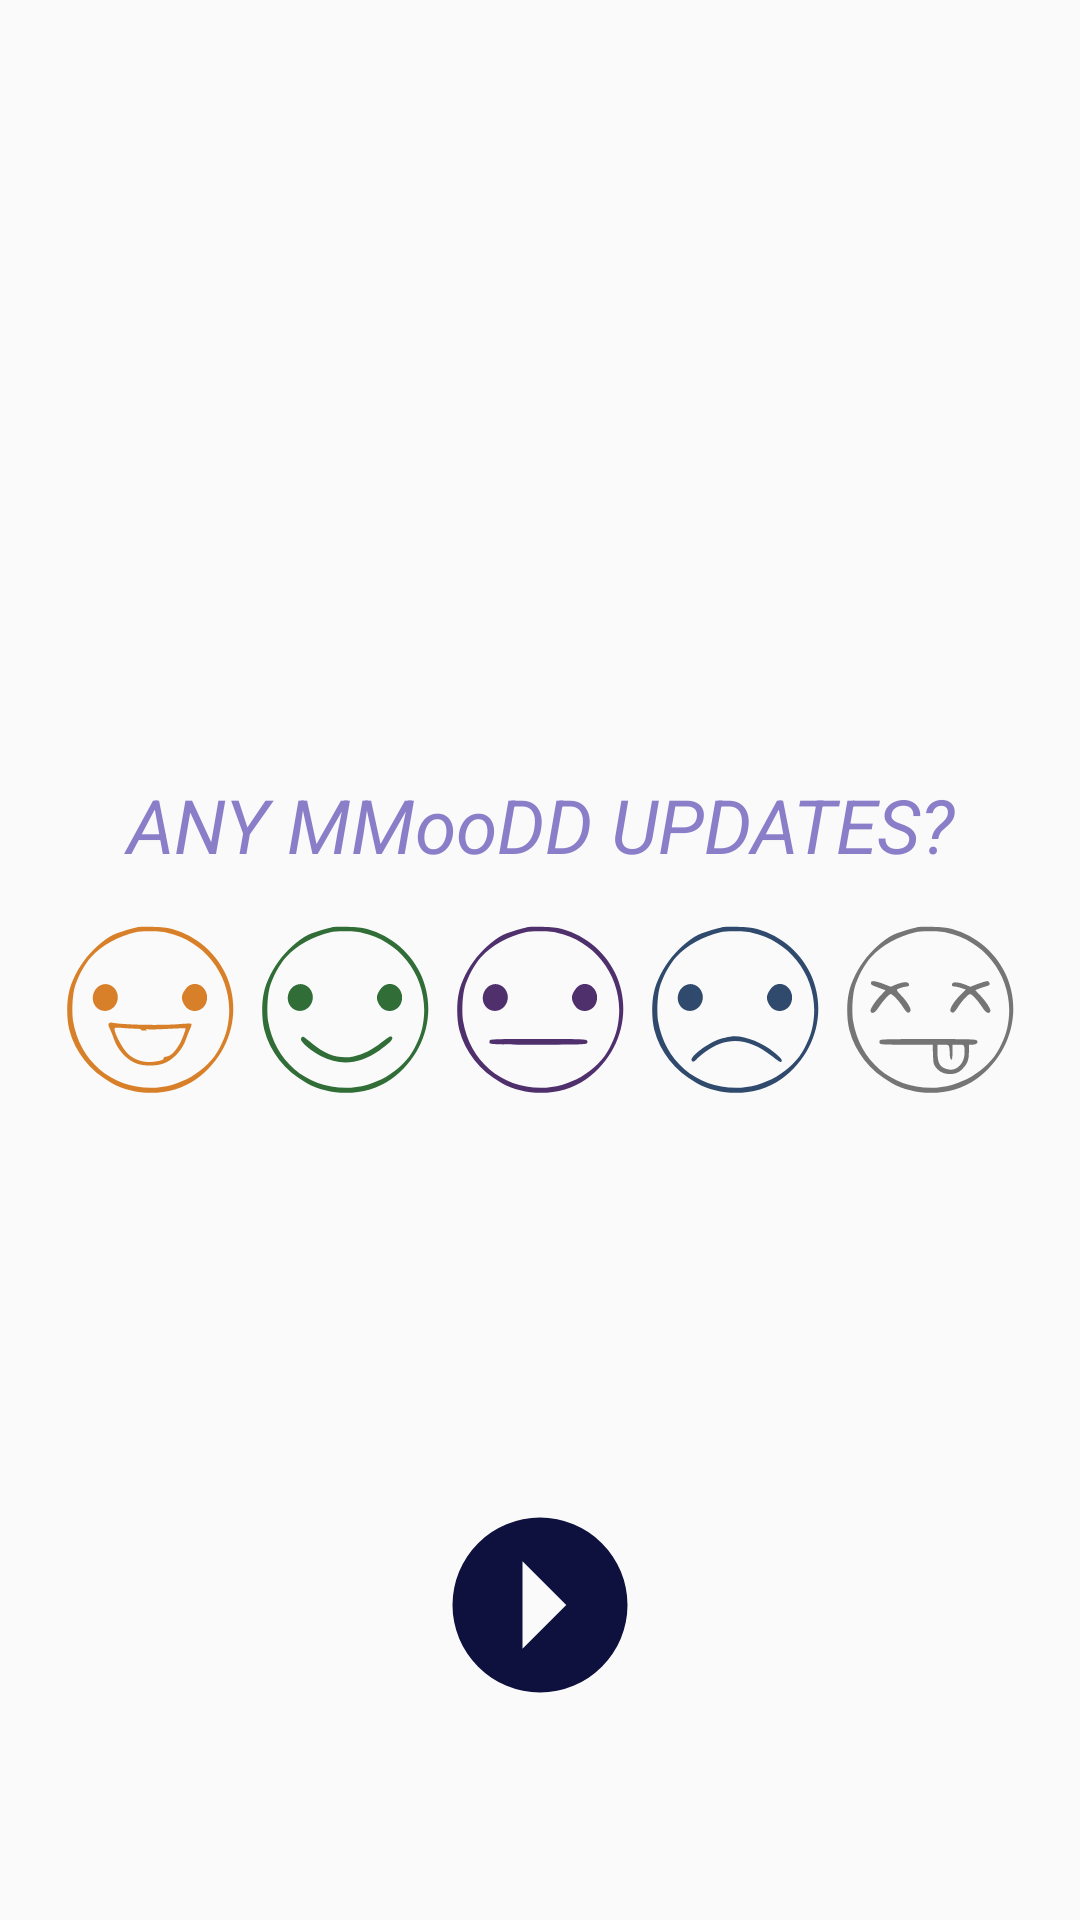

Screen size 1080w x 1920h. Icon name, then its center in pixels as point (x, y):
arrow right drop circle: point (540, 1605)
mood dead: point (930, 1009)
mood happy: point (150, 1009)
mood numb: point (540, 1009)
mood sad: point (735, 1009)
